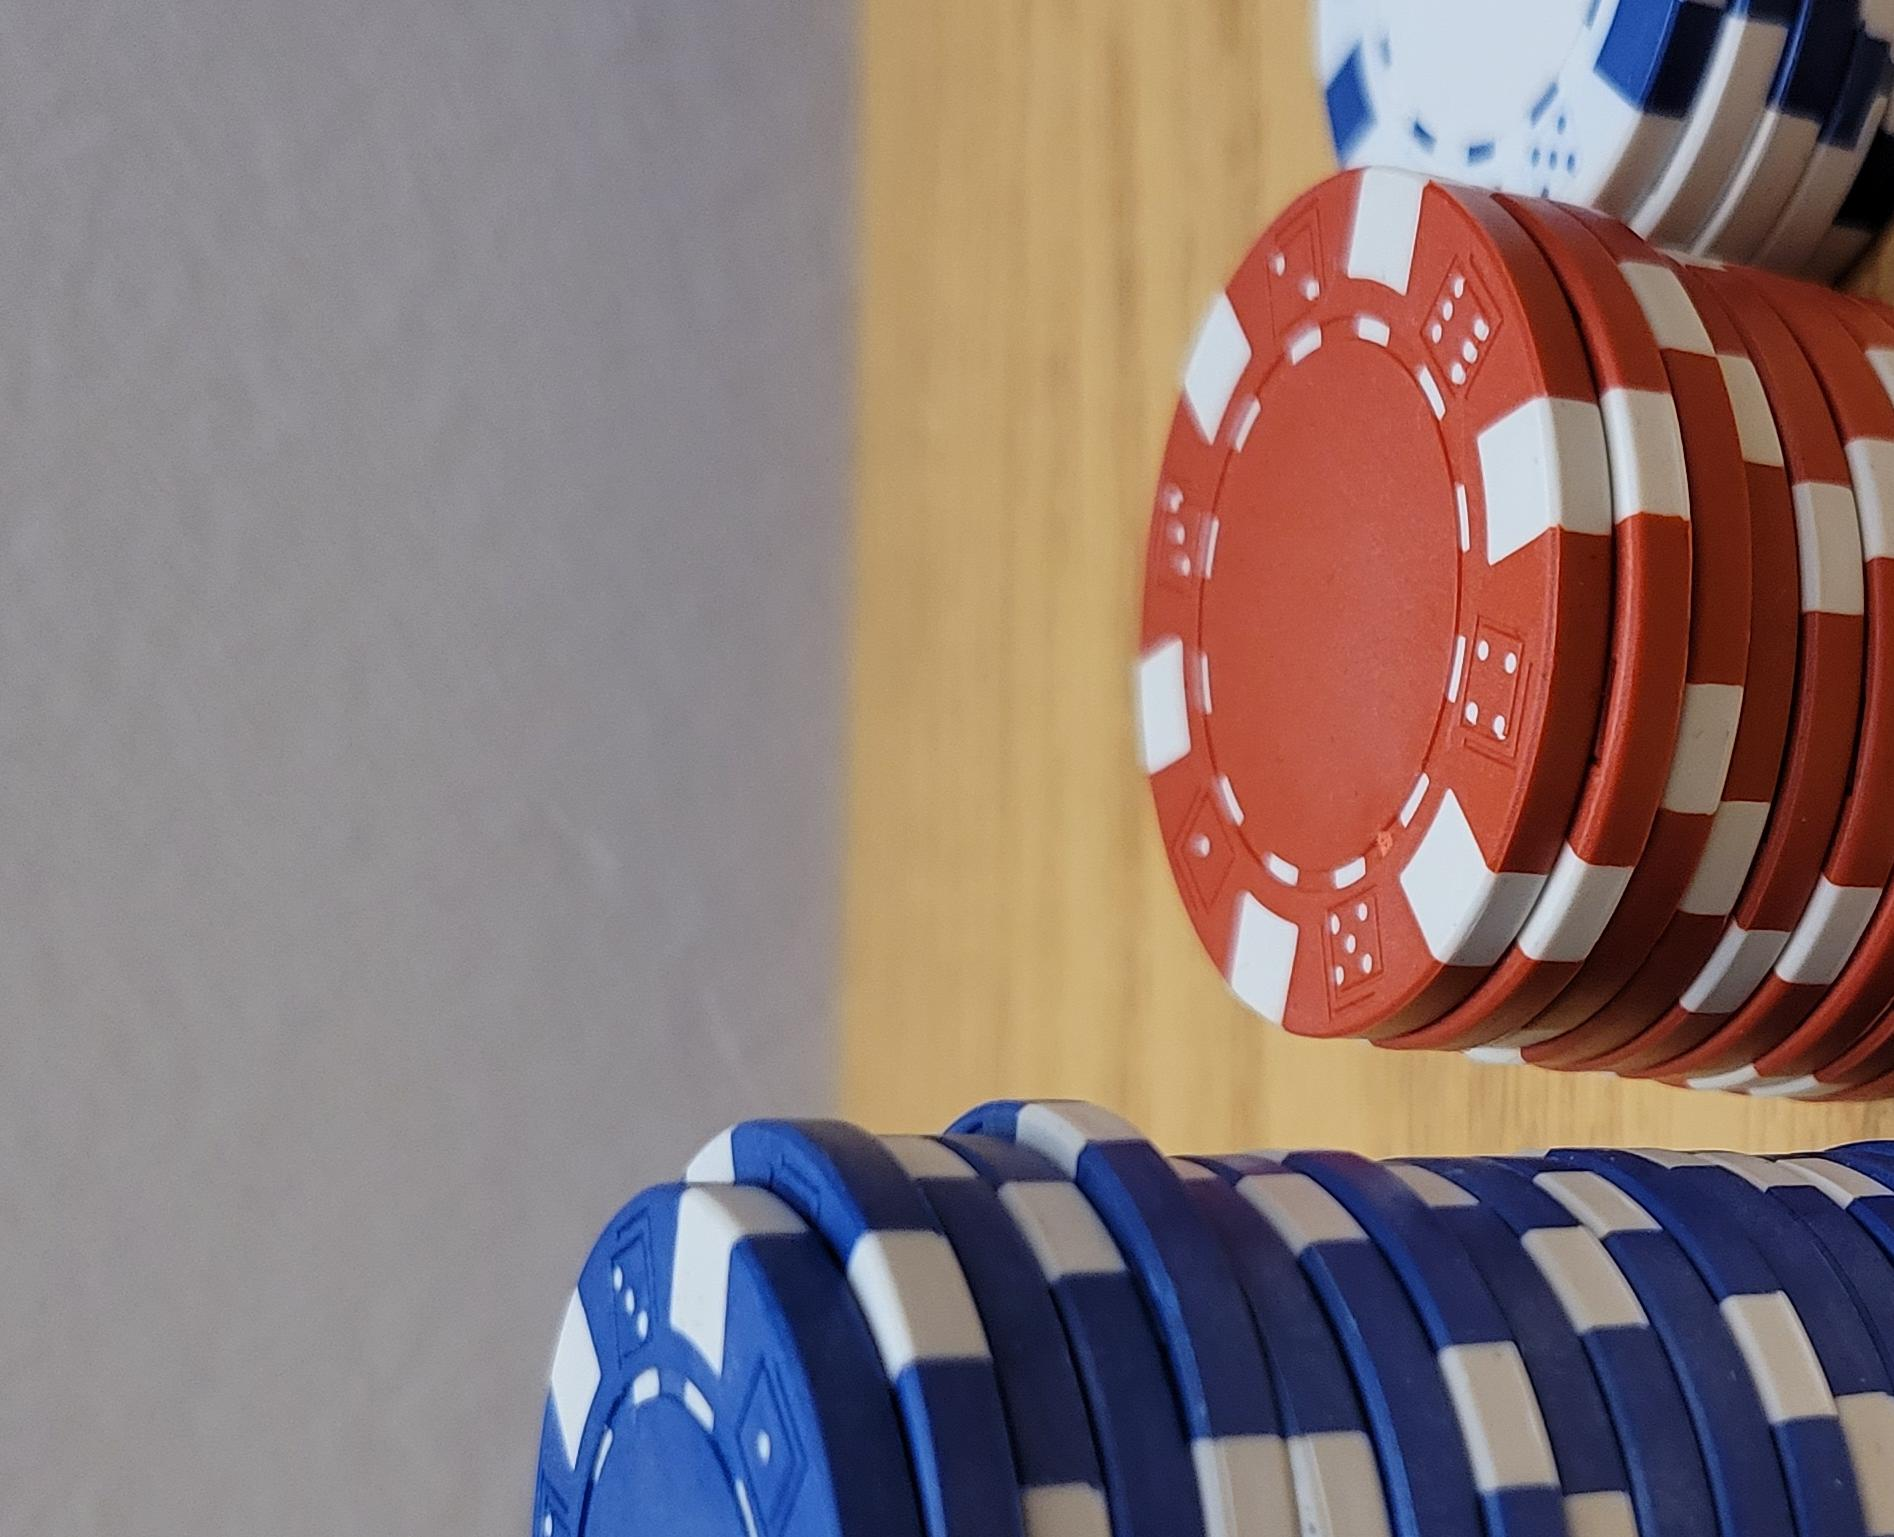Chip: (2, 165, 1370, 1537)
